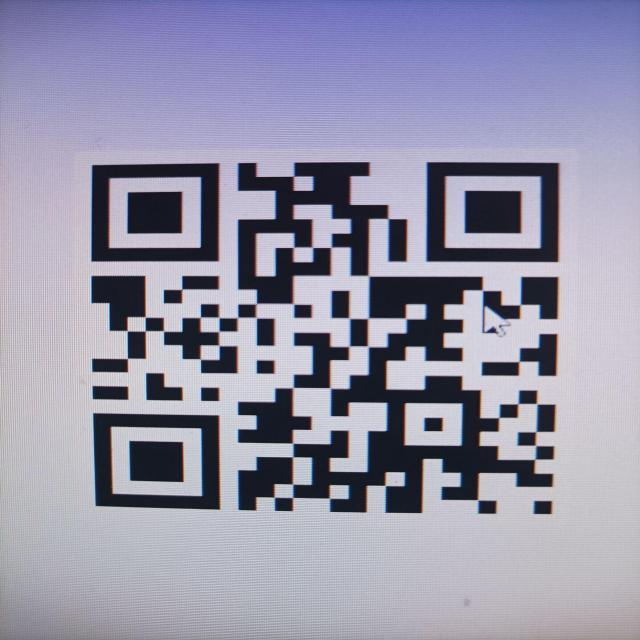qr_code: (89, 162, 556, 516)
